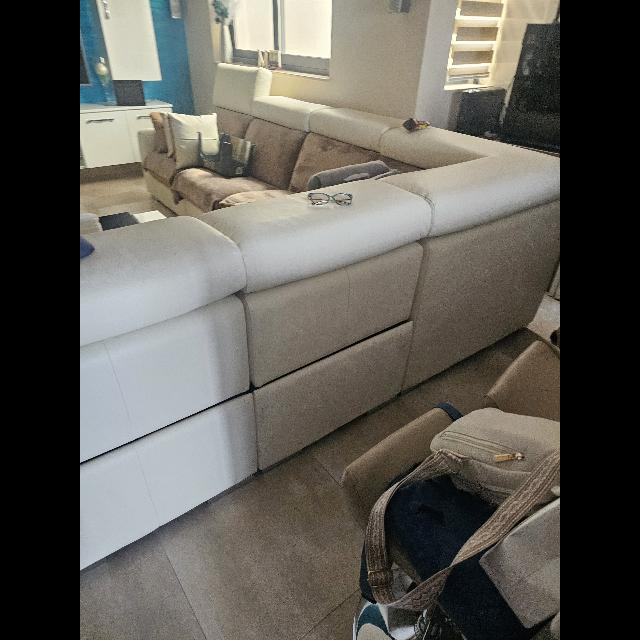glasses: (308, 192, 352, 205)
